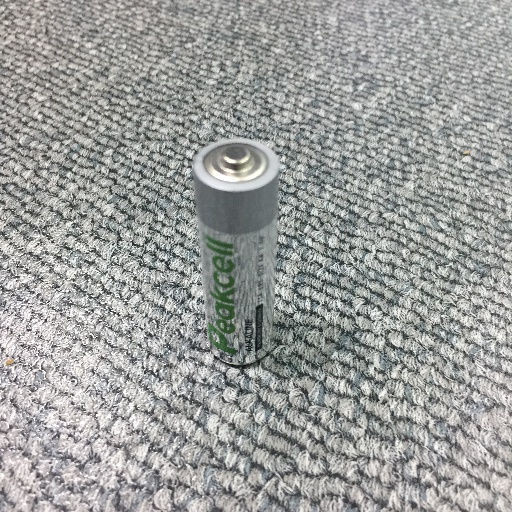Battery_0: (185, 133, 291, 375)
